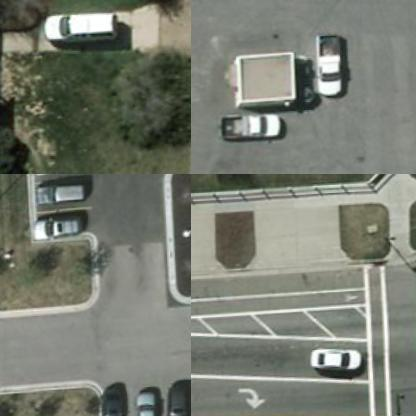car: (42, 5, 121, 40), (312, 32, 350, 98), (221, 112, 284, 146), (309, 344, 368, 379), (37, 182, 94, 212), (36, 214, 93, 243), (105, 391, 133, 415), (135, 395, 163, 415), (170, 389, 190, 415), (33, 174, 91, 181)
